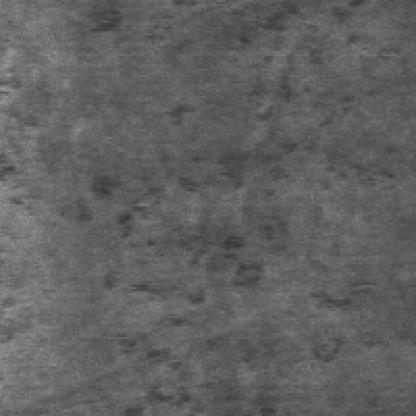rolled-in_scale: (120, 1, 402, 296)
